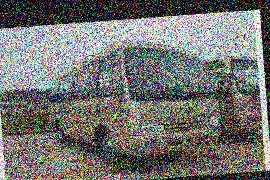bus: (46, 35, 222, 168)
